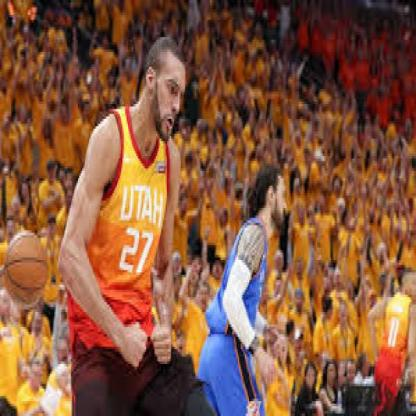basketball: (4, 233, 49, 308)
